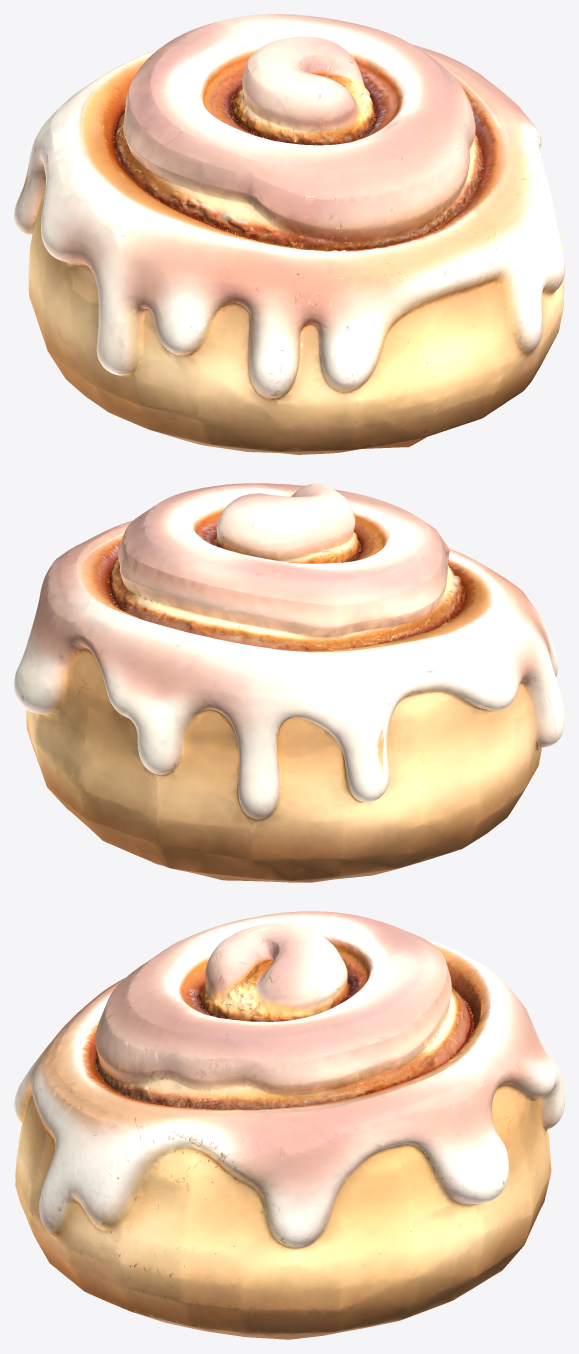
The model's file is Meshy_AI_Pink_Glazed_Cinnamon__0601103602_texture.fbx.
3 views of the same model, one above another, from view 1: azimuth 30°, elevation 25°; view 2: azimuth 150°, elevation 25°; view 3: azimuth 270°, elevation 25° (orthographic). The views are drawn at different scales.
Parts seen in each view (by area): view 1: Mesh_0; view 2: Mesh_0; view 3: Mesh_0.
Boxes of the visible parts, bbox=[...] form: Mesh_0: bbox=[14, 14, 564, 454]; Mesh_0: bbox=[14, 483, 564, 882]; Mesh_0: bbox=[14, 911, 564, 1339].
Bounding box in the file's own units: 191 × 121 × 191.
Materials: 1 (1 with a texture image).
